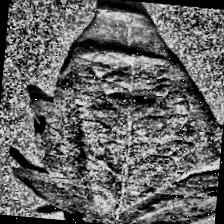spider mites: (10, 1, 224, 224)
